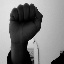a: (7, 2, 43, 53)
